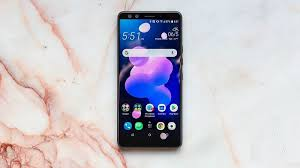htc: (114, 10, 182, 151)
